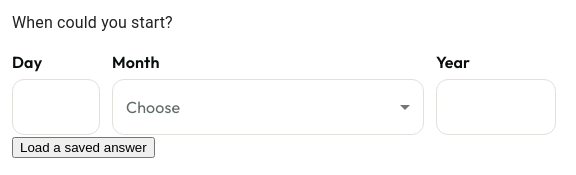
DateField › keeps only digits in the day and year, as many as each holds
In the field labelled "Day": (56, 107) [12,79,100,135], type "a1b23"
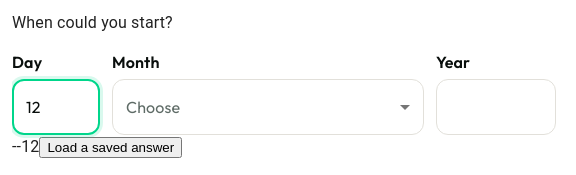
In the field labelled "Year": (496, 107) [436,79,556,135], type "20x265"
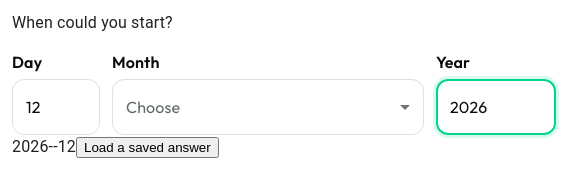
Result: the field labelled "Day" holds "12" at [12,79,100,135]
Result: the field labelled "Year" holds "2026" at [436,79,556,135]
